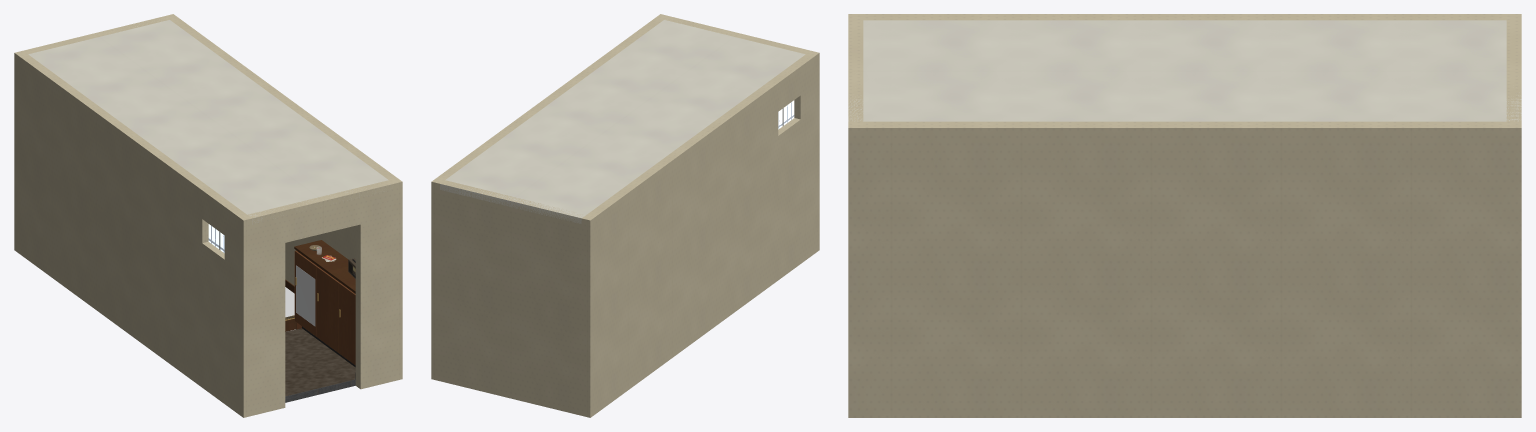
Rendered from HomeEntry.fbx.
3 views of the same model, side by side, from view 1: azimuth 30°, elevation 25°; view 2: azimuth 150°, elevation 25°; view 3: azimuth 270°, elevation 25° (orthographic). The views are drawn at different scales.
Visible parts, largest first — view 1: HomeEntry_Walls, HomeEntry_Ceiling, HomeEntry_Fixtures, HomeEntry_CabDoor1, HomeEntry_CabDoor2, HomeEntry_ShoeCabinet, HomeEntry_CabDoor0, HomeEntry_Floor; view 2: HomeEntry_Walls, HomeEntry_Ceiling; view 3: HomeEntry_Walls, HomeEntry_Ceiling.
Boxes of the visible parts, x1,y1,x2,y2 form: HomeEntry_Walls: [14, 14, 402, 417]; HomeEntry_Ceiling: [28, 19, 390, 224]; HomeEntry_Fixtures: [208, 224, 355, 396]; HomeEntry_CabDoor1: [316, 266, 339, 352]; HomeEntry_CabDoor2: [294, 250, 317, 336]; HomeEntry_ShoeCabinet: [294, 240, 355, 367]; HomeEntry_CabDoor0: [338, 283, 355, 365]; HomeEntry_Floor: [285, 287, 355, 402]; HomeEntry_Walls: [431, 14, 819, 417]; HomeEntry_Ceiling: [440, 19, 805, 223]; HomeEntry_Walls: [848, 14, 1521, 417]; HomeEntry_Ceiling: [848, 20, 1521, 121].
Bounding box in the file's own units: 2.2 × 2.61 × 5.49.
